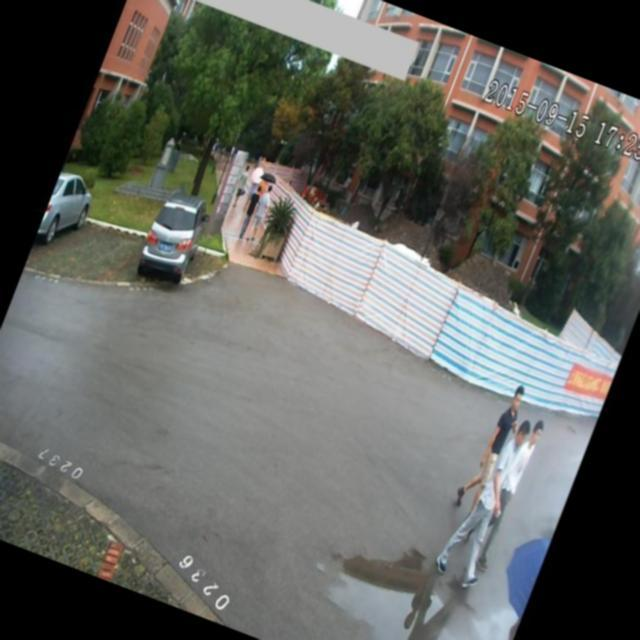person: (427, 402, 539, 606), (467, 410, 550, 576), (454, 376, 530, 510), (244, 181, 276, 249), (232, 182, 266, 242)
